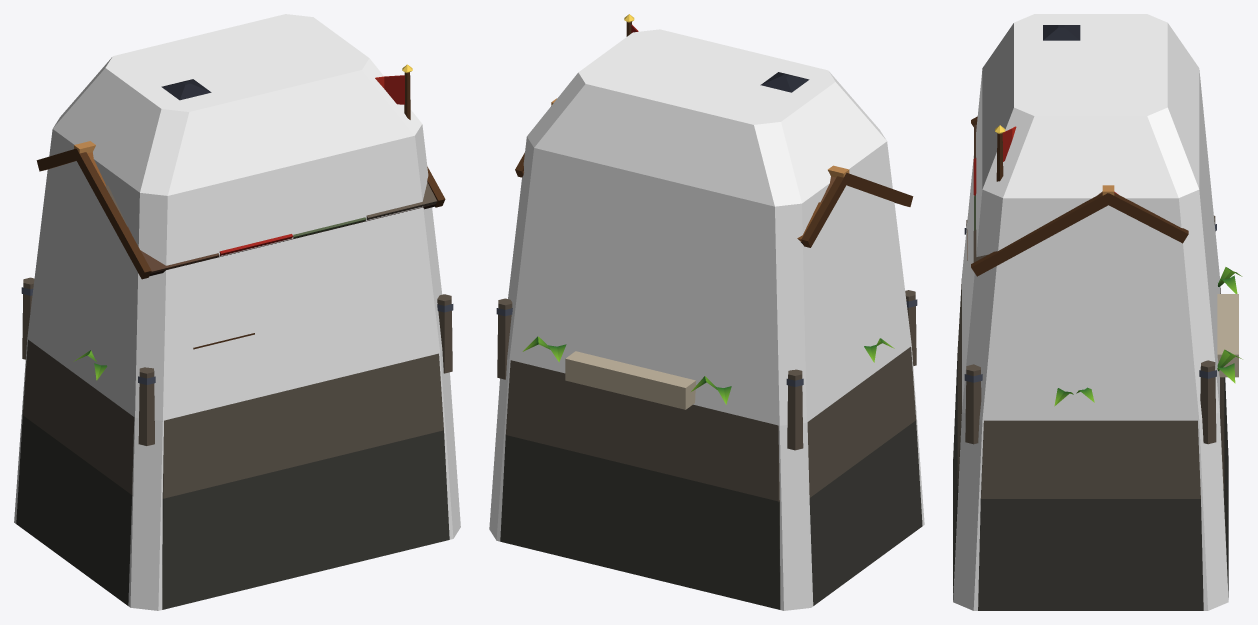
File: pirate_blacksmith_anchor_forge.glb
3 views of the same model, side by side, from view 1: azimuth 30°, elevation 25°; view 2: azimuth 150°, elevation 25°; view 3: azimuth 270°, elevation 25° (orthographic). The views are drawn at different scales.
Visible parts, largest first — view 1: col_anchorforge_base, pirate_blacksmith_anchor_forge; view 2: col_anchorforge_base, pirate_blacksmith_anchor_forge; view 3: col_anchorforge_base, pirate_blacksmith_anchor_forge.
Boxes of the visible parts, x1=… form: col_anchorforge_base: x1=14, y1=14, x2=460, y2=610; pirate_blacksmith_anchor_forge: x1=16, y1=64, x2=453, y2=609; col_anchorforge_base: x1=489, y1=29, x2=924, y2=610; pirate_blacksmith_anchor_forge: x1=496, y1=14, x2=922, y2=609; col_anchorforge_base: x1=953, y1=14, x2=1228, y2=610; pirate_blacksmith_anchor_forge: x1=953, y1=25, x2=1242, y2=610.
Bounding box in the file's own units: 5.35 × 7.1 × 3.97.
